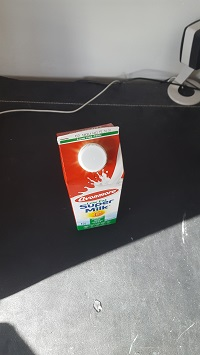Carton: (53, 120, 127, 233)
